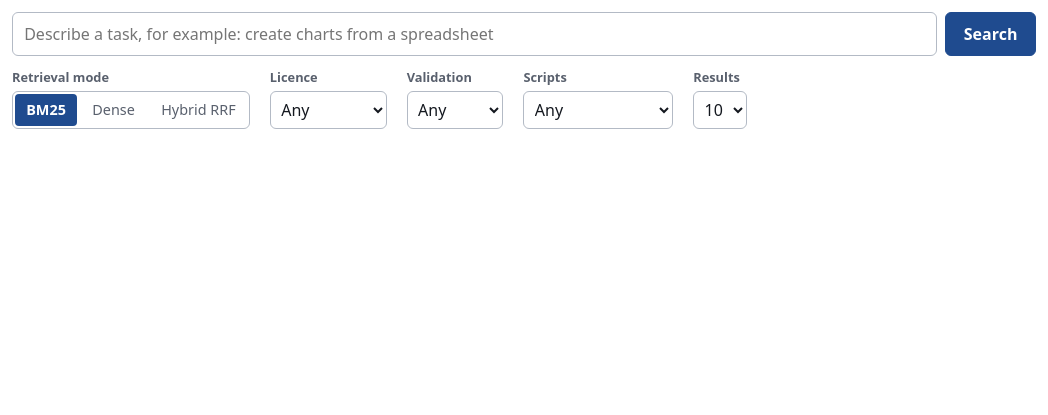
SearchView › submits from the keyboard without reaching for the button
Type "spreadsheets" into the search field.
click(475, 34); type("spreadsheets")  # box [12,12,937,56]
Then press Enter
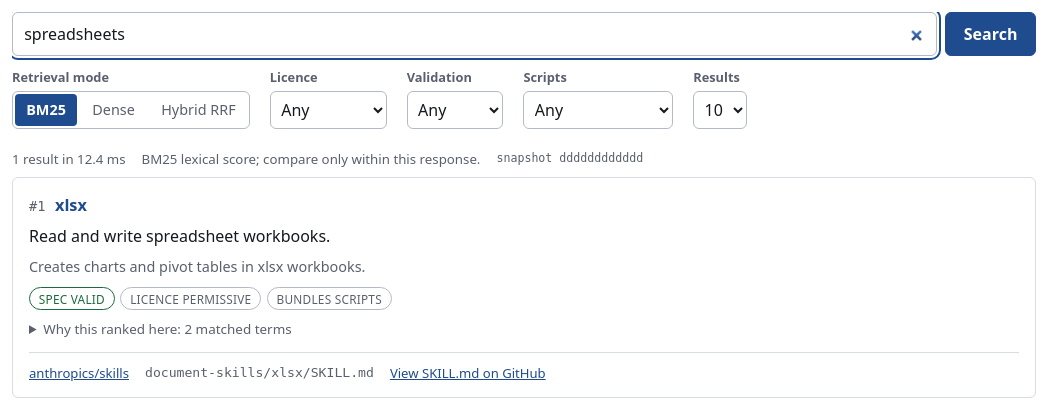
Result: the button "xlsx" is shown at [55,193,87,218]
